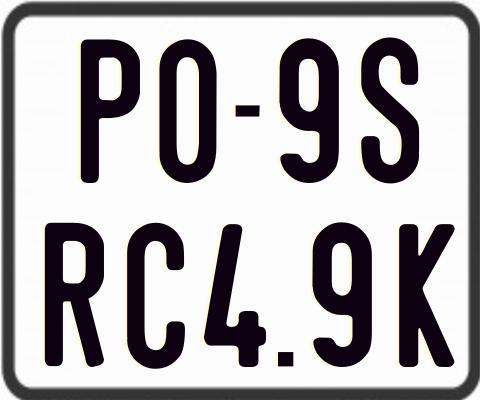0: (156, 39, 214, 187)
4: (201, 221, 264, 366)
9: (279, 36, 344, 186), (309, 222, 374, 369)
C: (127, 222, 190, 368)
K: (399, 224, 459, 370)
P: (78, 38, 141, 186)
R: (43, 220, 103, 364)
S: (360, 34, 422, 181)
